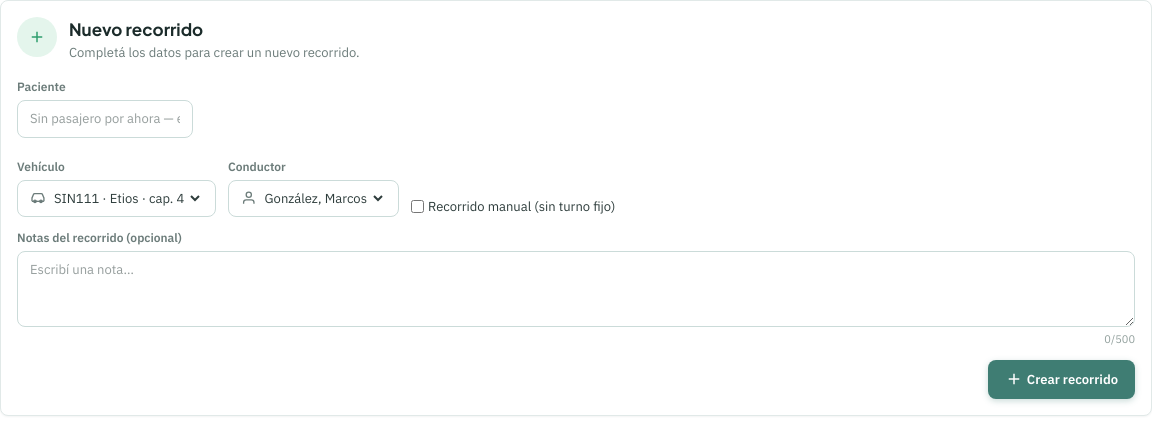
it: NuevoRecorridoForm › vuelve a incluir un vehículo descartado si se vuelve a elegir "sin pasajero"
Click the dropdown labelled "Paciente" at (105, 119), box [17, 100, 193, 138]
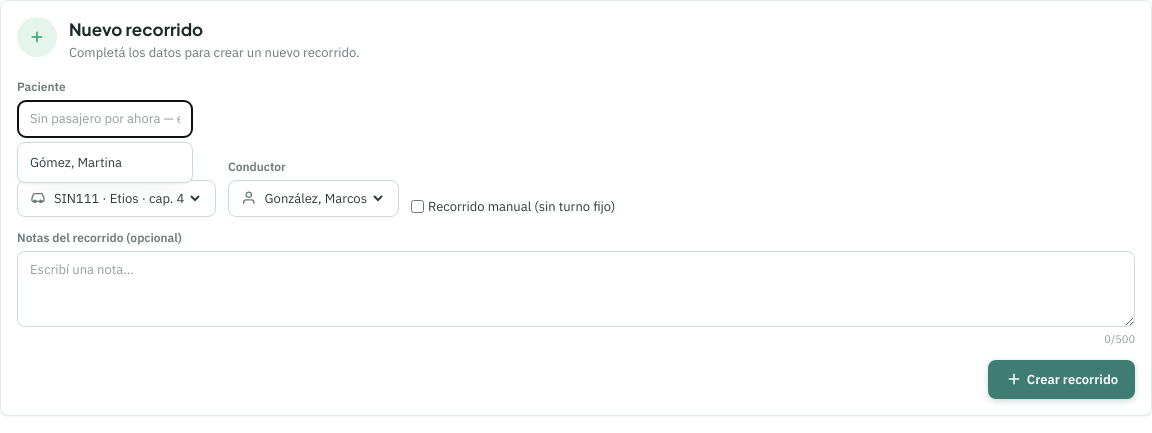
Click the option "Gómez, Martina" at (76, 162), box [30, 154, 122, 170]
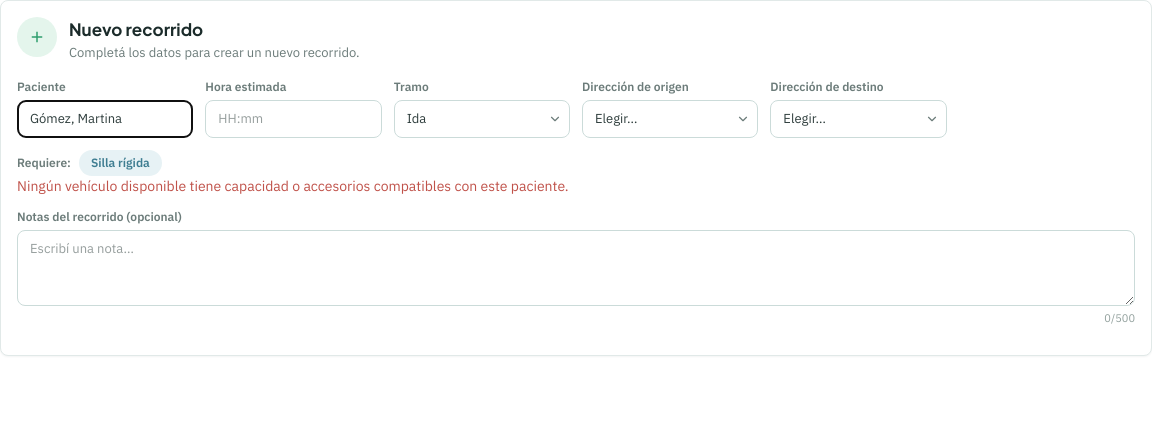
Check: the text "Ningún vehículo disponible" is shown, box [17, 176, 569, 194]
Clear the dropdown labelled "Paciente" at (105, 119), box [17, 100, 193, 138]
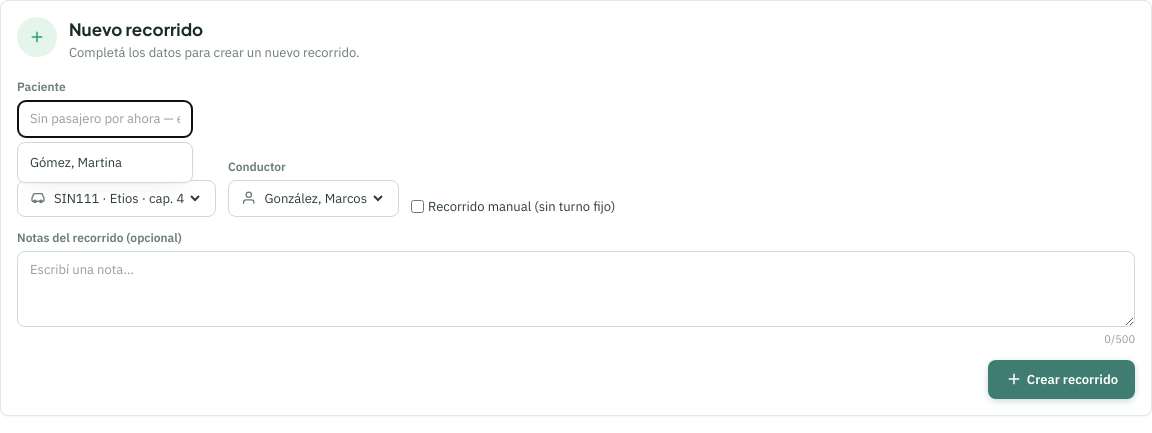
Check: the text "Ningún vehículo disponible" is gone
